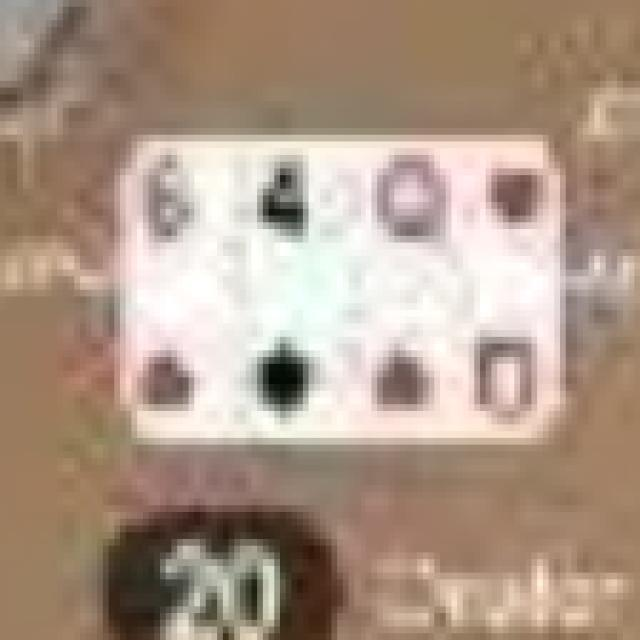Card-4: (248, 144, 367, 444)
Card-6: (128, 145, 250, 442)
Card-Q: (367, 145, 555, 440)
